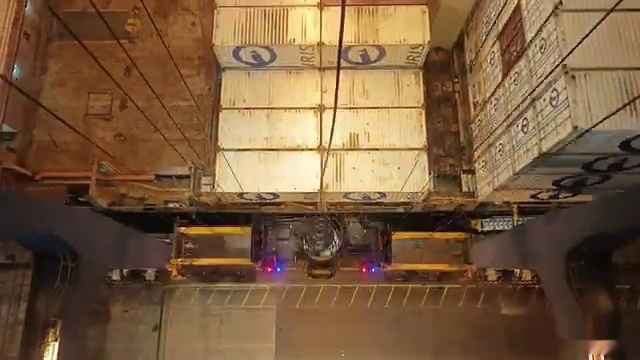container: (214, 6, 429, 66), (213, 149, 433, 202), (208, 1, 436, 44), (216, 109, 427, 148), (209, 0, 433, 36), (219, 70, 424, 107), (216, 0, 428, 4)
guide_mark: (108, 284, 542, 305), (65, 345, 559, 360)
spreader: (165, 211, 484, 286)
target_slot: (214, 5, 432, 69)
